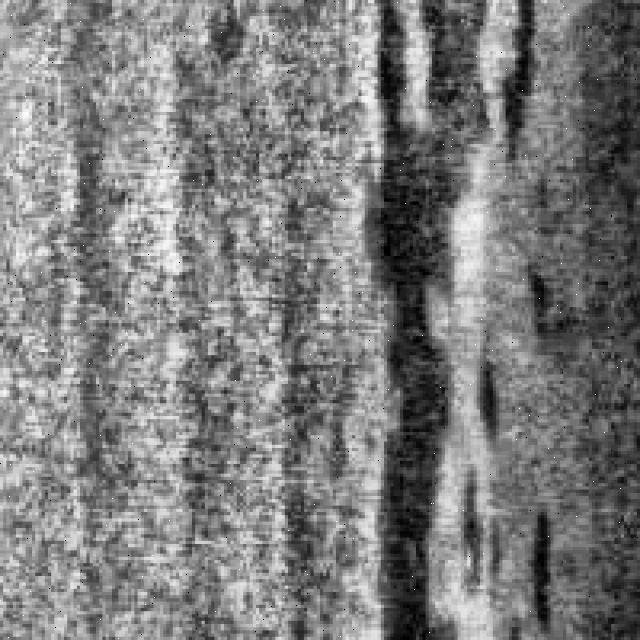Patches: (371, 0, 496, 627), (496, 0, 560, 160)
